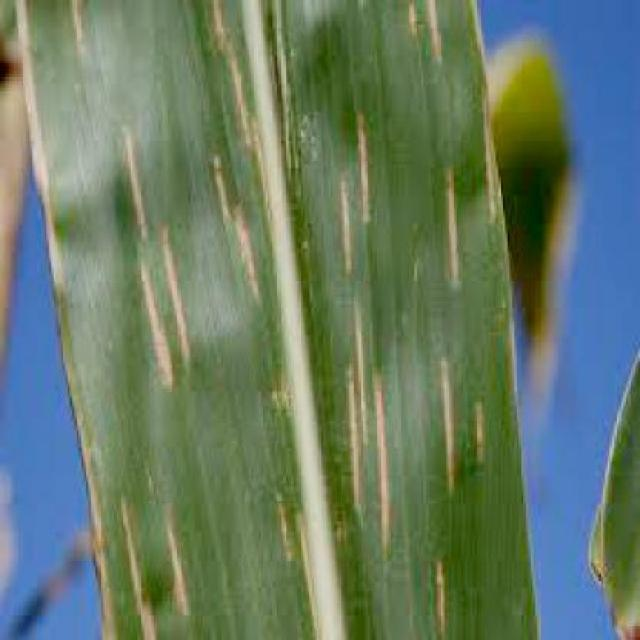Corn_Grey_Leaf_Spot: (20, 0, 528, 640)
